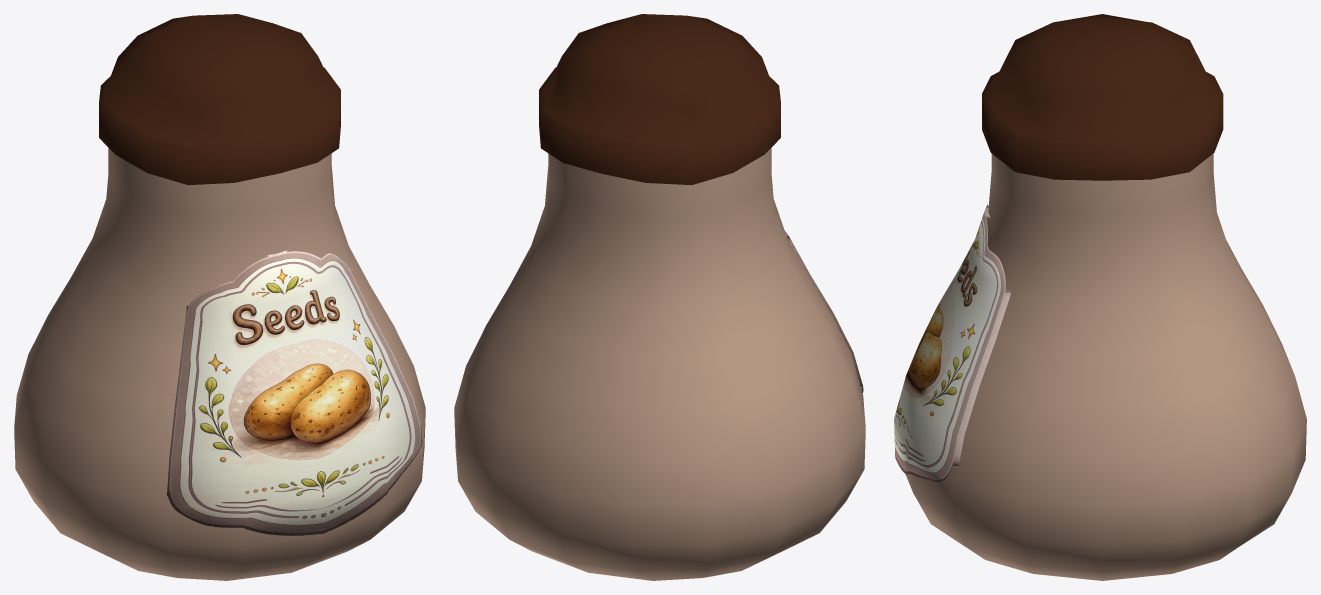
File: seed_potato.glb
3 renders of one model, left to right at view 1: azimuth 30°, elevation 25°; view 2: azimuth 150°, elevation 25°; view 3: azimuth 270°, elevation 25°, orthographic.
Visible parts, largest first — view 1: seed_potato; view 2: seed_potato; view 3: seed_potato.
Boxes of the visible parts, x1=… form: seed_potato: x1=14, y1=14, x2=425, y2=580; seed_potato: x1=454, y1=14, x2=865, y2=580; seed_potato: x1=894, y1=14, x2=1306, y2=580.
Size of what is drawn, in the model's own units: 0.3161 by 0.4348 by 0.3193.
Materials: 3 (1 with a texture image).
